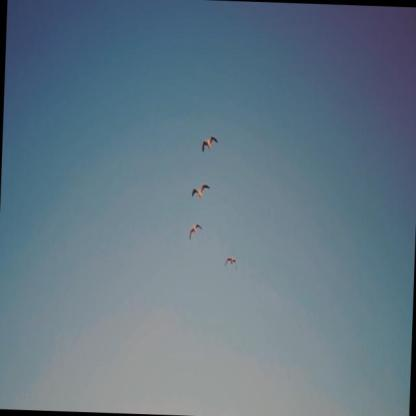bird: (191, 183, 210, 201), (202, 134, 219, 153), (189, 223, 203, 241), (224, 256, 238, 271)
